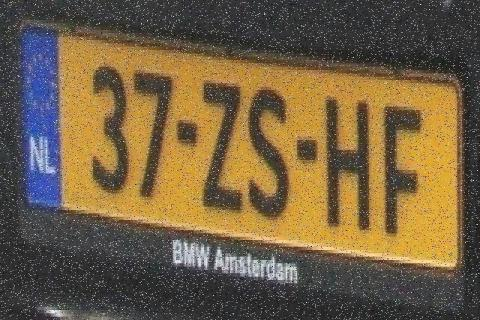LicensePlate: (17, 9, 472, 277)
